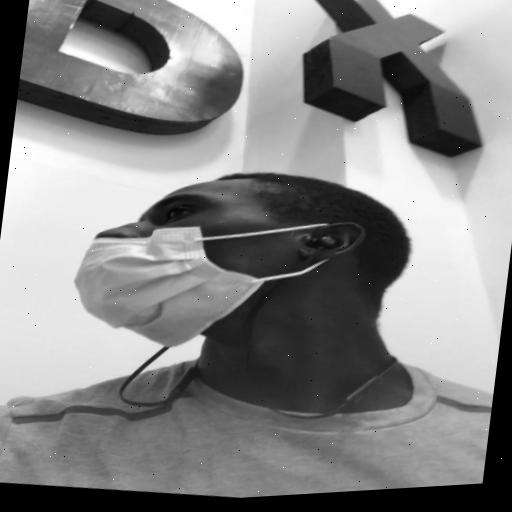mask: (64, 157, 330, 371)
